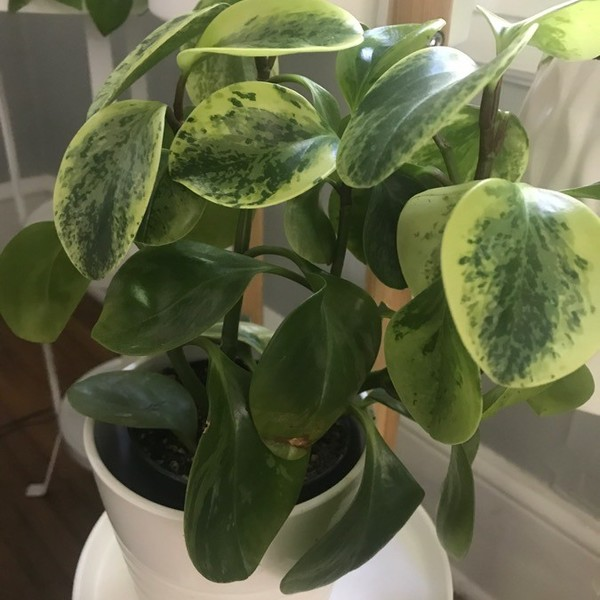obstacle: (57, 21, 489, 590)
